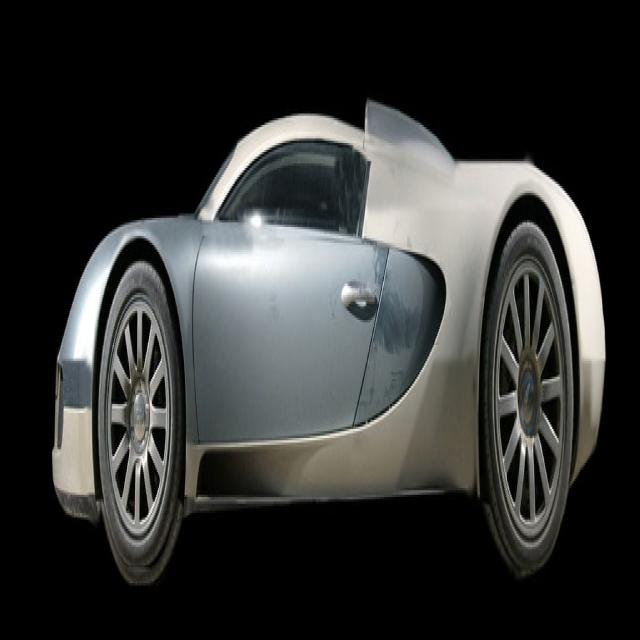car: (50, 107, 603, 574)
